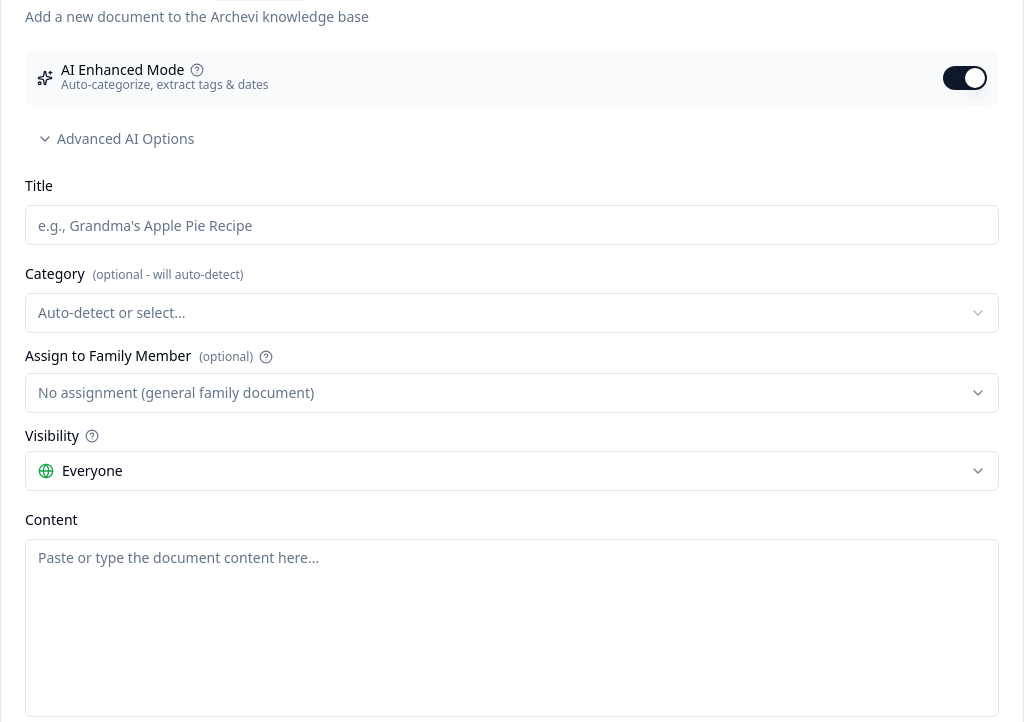
it: DocumentUpload › Enhanced Mode › changes submit button text when enhanced mode is off
What coordinates should you click on to do the following:
click the switch named "AI Enhanced Mode"
I would click on:
 (965, 78)
Its box is [943, 66, 987, 90].
(page scrolled)
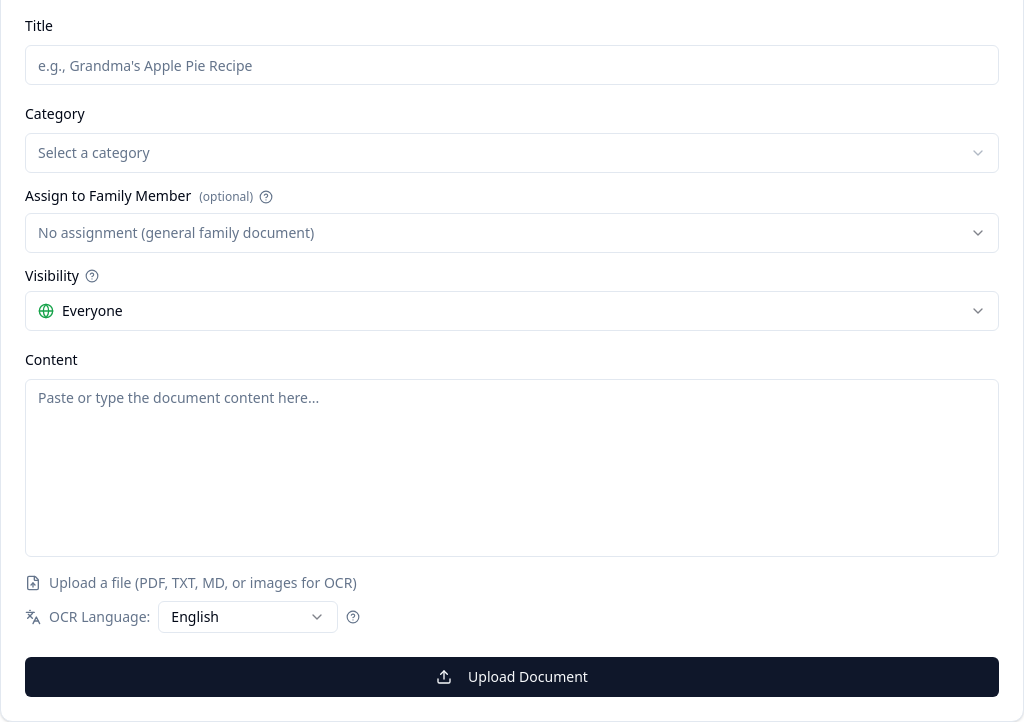
Now the button "Upload Document" is shown, box [25, 657, 999, 697]
